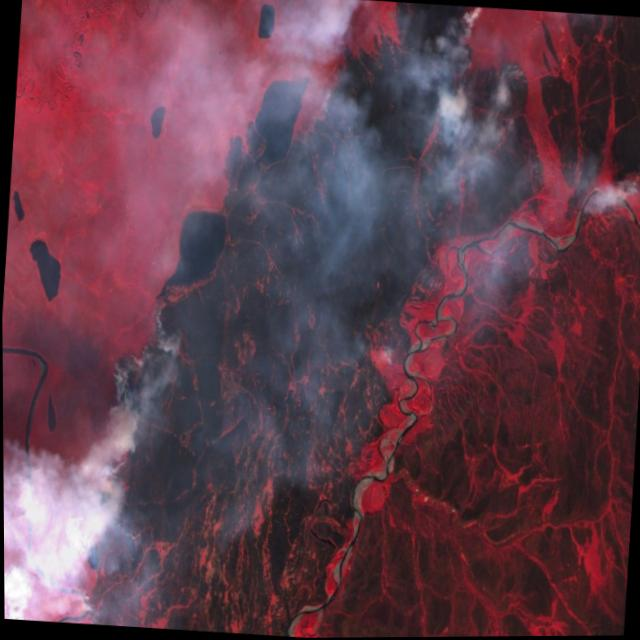fire: (54, 331, 184, 629), (428, 4, 542, 193), (606, 166, 640, 223)
